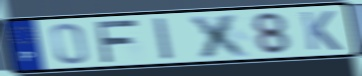0: (49, 22, 90, 66)
8: (249, 11, 293, 56)
F: (92, 18, 140, 65)
I: (152, 16, 177, 62)
K: (299, 10, 344, 52)
X: (187, 12, 255, 59)
